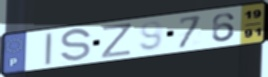6: (212, 12, 238, 43)
7: (178, 14, 204, 50)
9: (138, 20, 165, 52)
I: (44, 31, 54, 67)
S: (58, 27, 93, 64)
Z: (100, 22, 133, 60)
